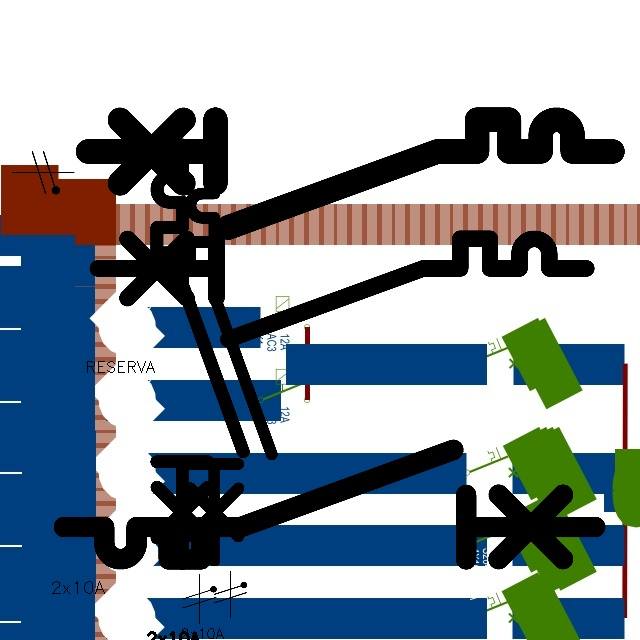interruptor_termomagnetico: (50, 436, 609, 573), (74, 106, 625, 241), (85, 226, 599, 351), (146, 134, 253, 574), (180, 153, 282, 570)
